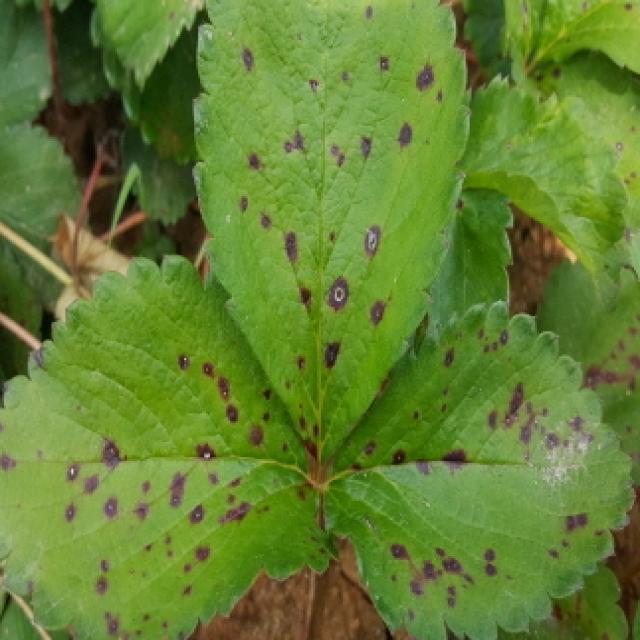Leaf Spot: (188, 0, 473, 469), (0, 246, 334, 640), (320, 300, 637, 640), (532, 254, 640, 479), (510, 50, 640, 234), (95, 0, 205, 93), (520, 0, 640, 75), (455, 0, 535, 90), (555, 567, 633, 640)
